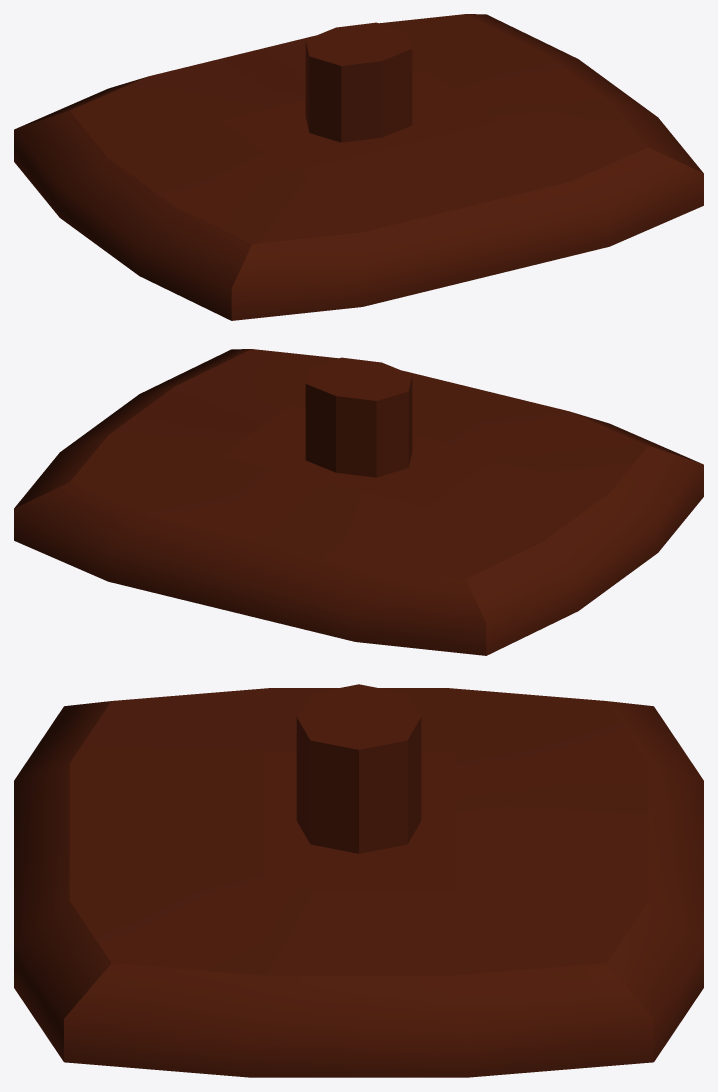
Rendered from CrewHatch.fbx.
3 renders of one model, top to bottom at view 1: azimuth 30°, elevation 25°; view 2: azimuth 150°, elevation 25°; view 3: azimuth 270°, elevation 25°, orthographic. The views are drawn at different scales.
Visible parts, largest first — view 1: Hatch; view 2: Hatch; view 3: Hatch.
Part boxes in pixels (x1,y1,x2,y2): Hatch: (14, 14, 703, 320); Hatch: (14, 349, 703, 655); Hatch: (14, 684, 703, 1077).
Size of the model in its own units: 5 by 1.28 by 4.25.
